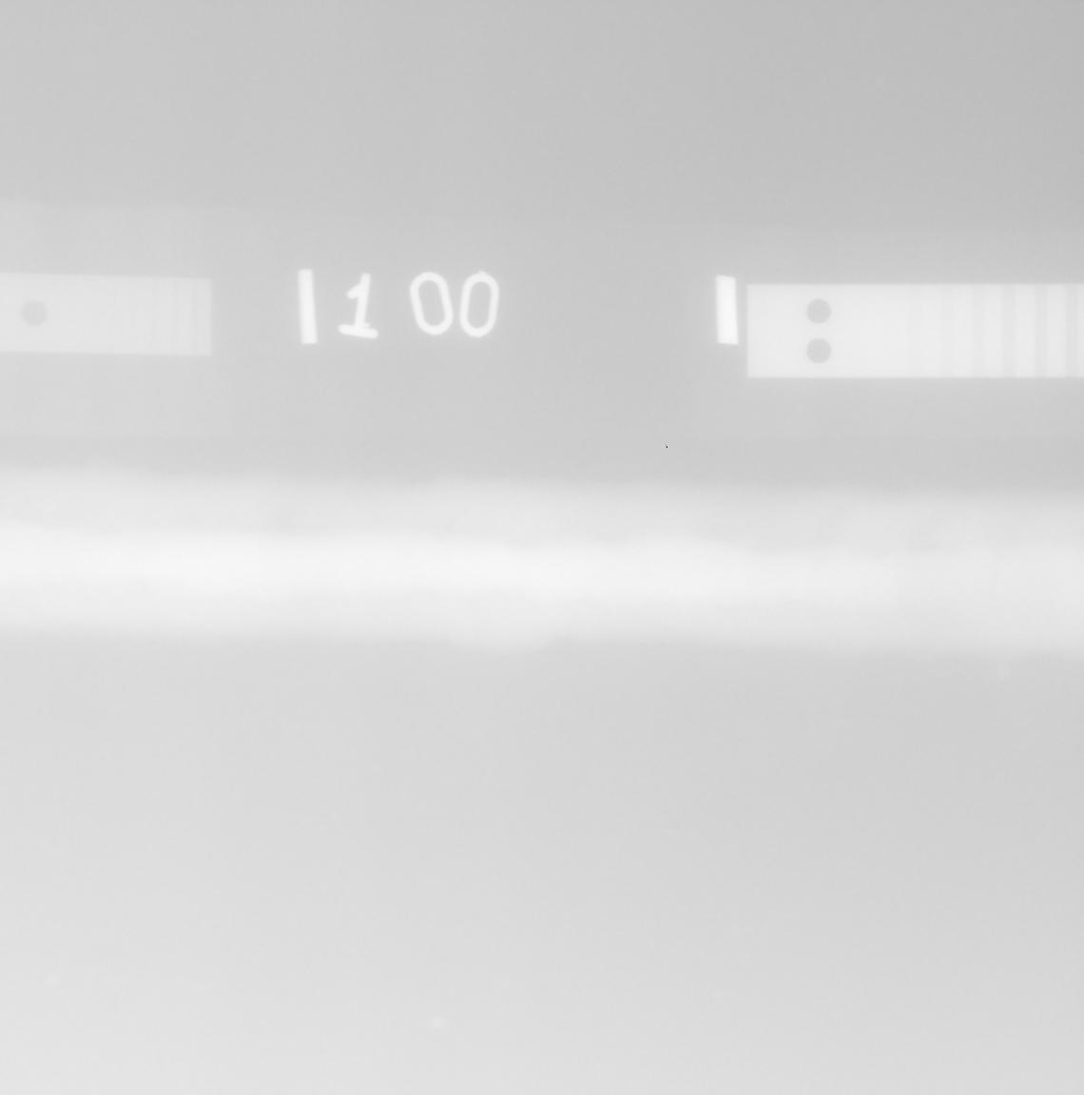Inclusion: (906, 541, 941, 554), (992, 570, 1001, 580)
